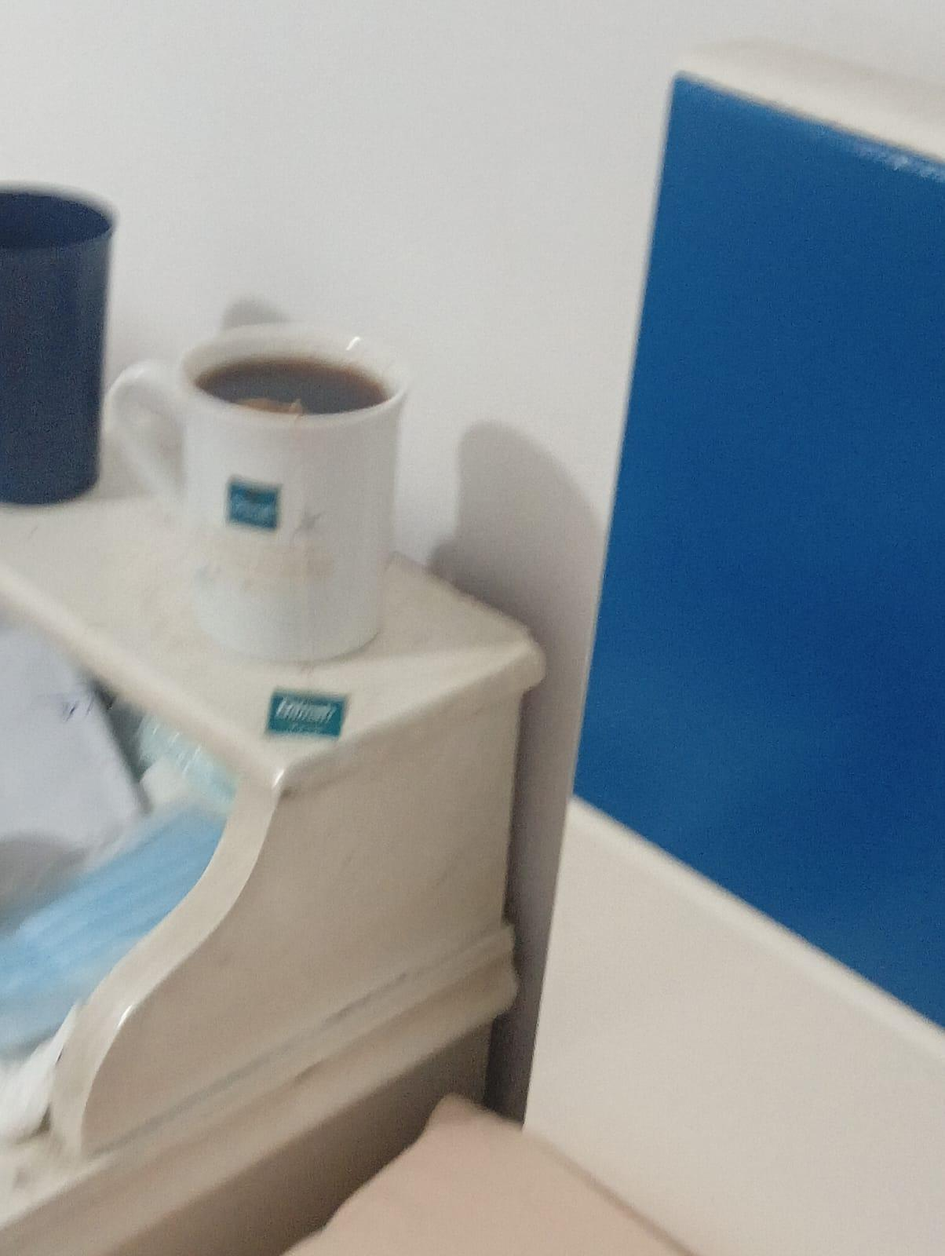cup: (109, 323, 407, 662), (0, 188, 112, 503)
